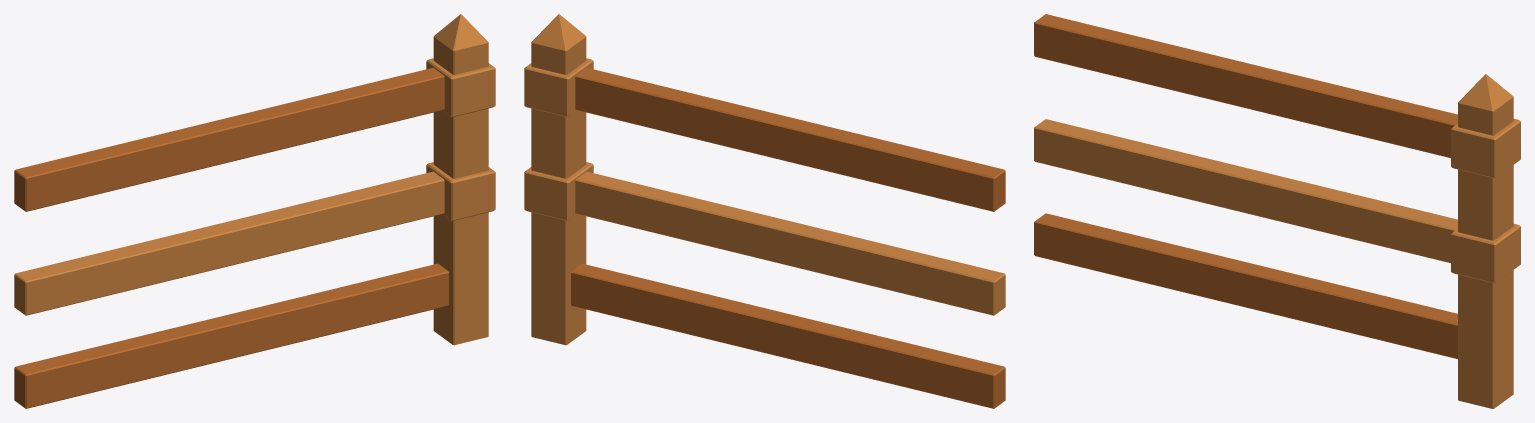
Rendered from Wooden Fence Straight.glb.
3 views of the same model, side by side, from view 1: azimuth 30°, elevation 25°; view 2: azimuth 150°, elevation 25°; view 3: azimuth 330°, elevation 25° (orthographic).
Parts seen in each view (by area): view 1: Wooden Fence Straight; view 2: Wooden Fence Straight; view 3: Wooden Fence Straight.
Boxes of the visible parts, x1,y1,x2,y2 form: Wooden Fence Straight: (14, 14, 495, 408); Wooden Fence Straight: (524, 14, 1005, 408); Wooden Fence Straight: (1034, 14, 1520, 408).
Size of the model in its own units: 1.82 by 1.2 by 0.176.
